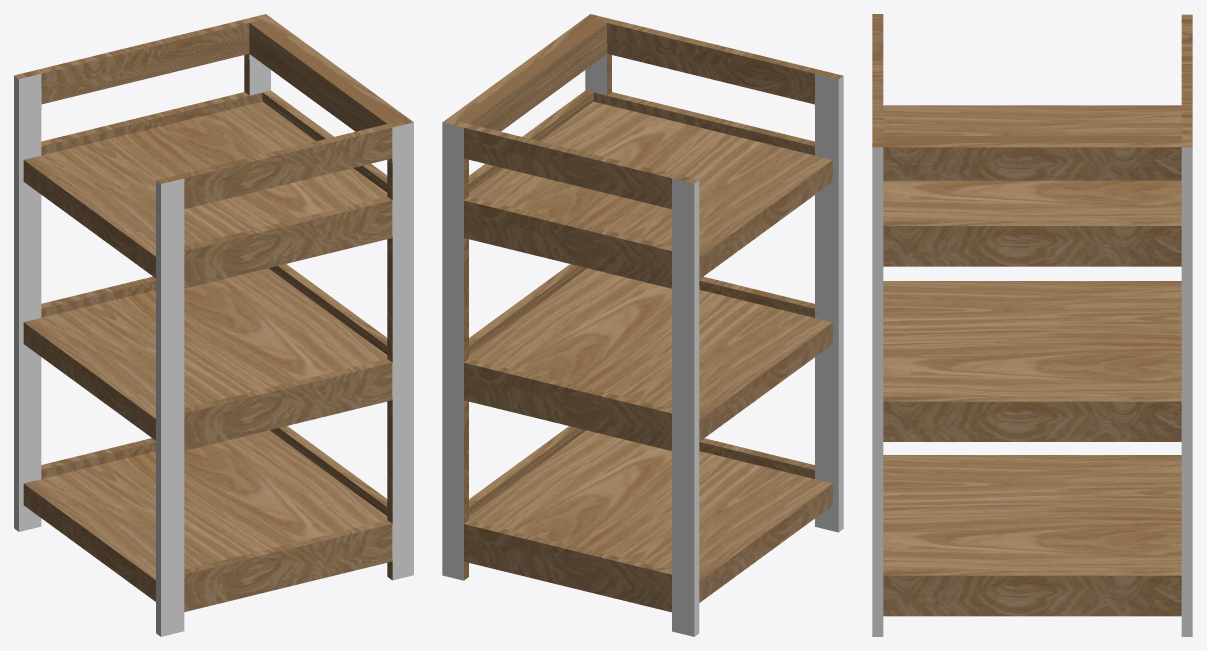
The model's file is shelf.gltf.
3 views of the same model, side by side, from view 1: azimuth 30°, elevation 25°; view 2: azimuth 150°, elevation 25°; view 3: azimuth 270°, elevation 25° (orthographic). The views are drawn at different scales.
Parts seen in each view (by area): view 1: 立方体.001, 立方体, 立方体.003, 立方体.002; view 2: 立方体.001, 立方体, 立方体.003, 立方体.002; view 3: 立方体.001, 立方体.003, 立方体, 立方体.002.
Part boxes in pixels (left/top/right/bottom): 立方体.001: left=14, top=264, right=413, bottom=582; 立方体: left=14, top=90, right=413, bottom=419; 立方体.003: left=14, top=426, right=413, bottom=636; 立方体.002: left=14, top=14, right=413, bottom=256; 立方体.001: left=442, top=264, right=843, bottom=581; 立方体: left=442, top=90, right=843, bottom=419; 立方体.003: left=442, top=426, right=843, bottom=636; 立方体.002: left=442, top=14, right=843, bottom=256; 立方体.001: left=872, top=281, right=1192, bottom=577; 立方体.003: left=872, top=455, right=1192, bottom=636; 立方体: left=872, top=105, right=1192, bottom=402; 立方体.002: left=872, top=14, right=1192, bottom=225.
Size of the model in its own units: 2.19 by 3.75 by 2.22.
4 materials, 2 textured.
